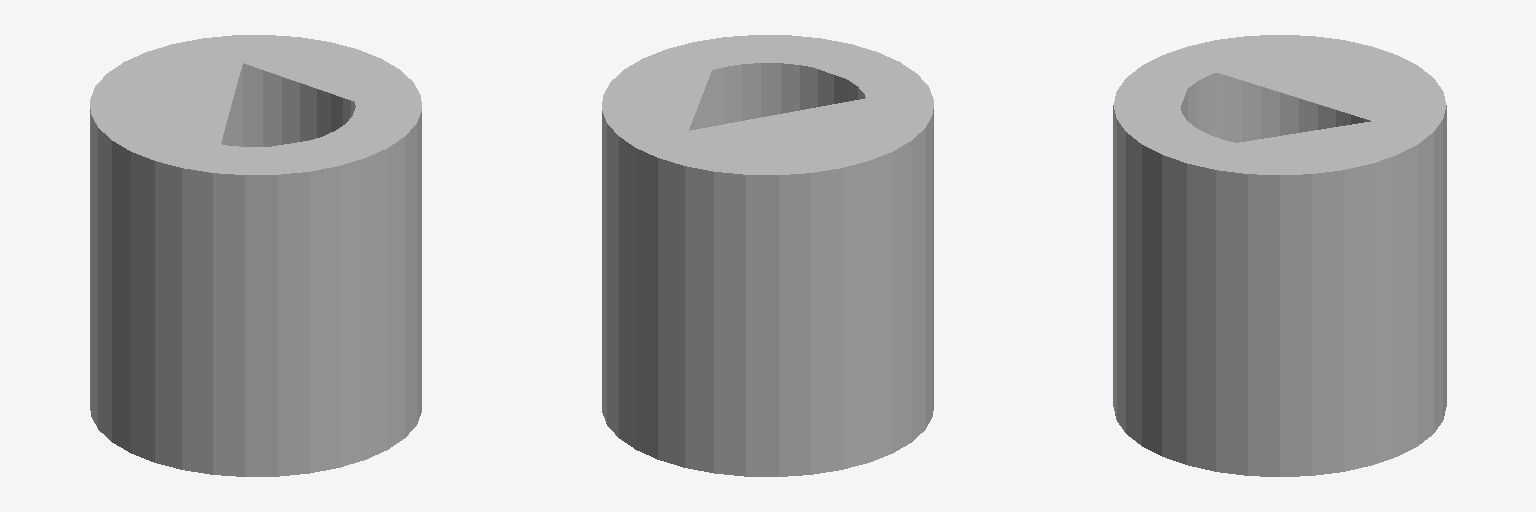
The model's file is PlatformBoss.obj.
3 views of the same model, side by side, from view 1: azimuth 30°, elevation 25°; view 2: azimuth 150°, elevation 25°; view 3: azimuth 270°, elevation 25° (orthographic).
Visible parts, largest first — view 1: Cylinder; view 2: Cylinder; view 3: Cylinder.
Part boxes in pixels (x1,y1,x2,y2): Cylinder: (90, 35, 421, 476); Cylinder: (602, 35, 933, 476); Cylinder: (1113, 35, 1446, 476).
Size of the model in its own units: 2 by 2 by 2.